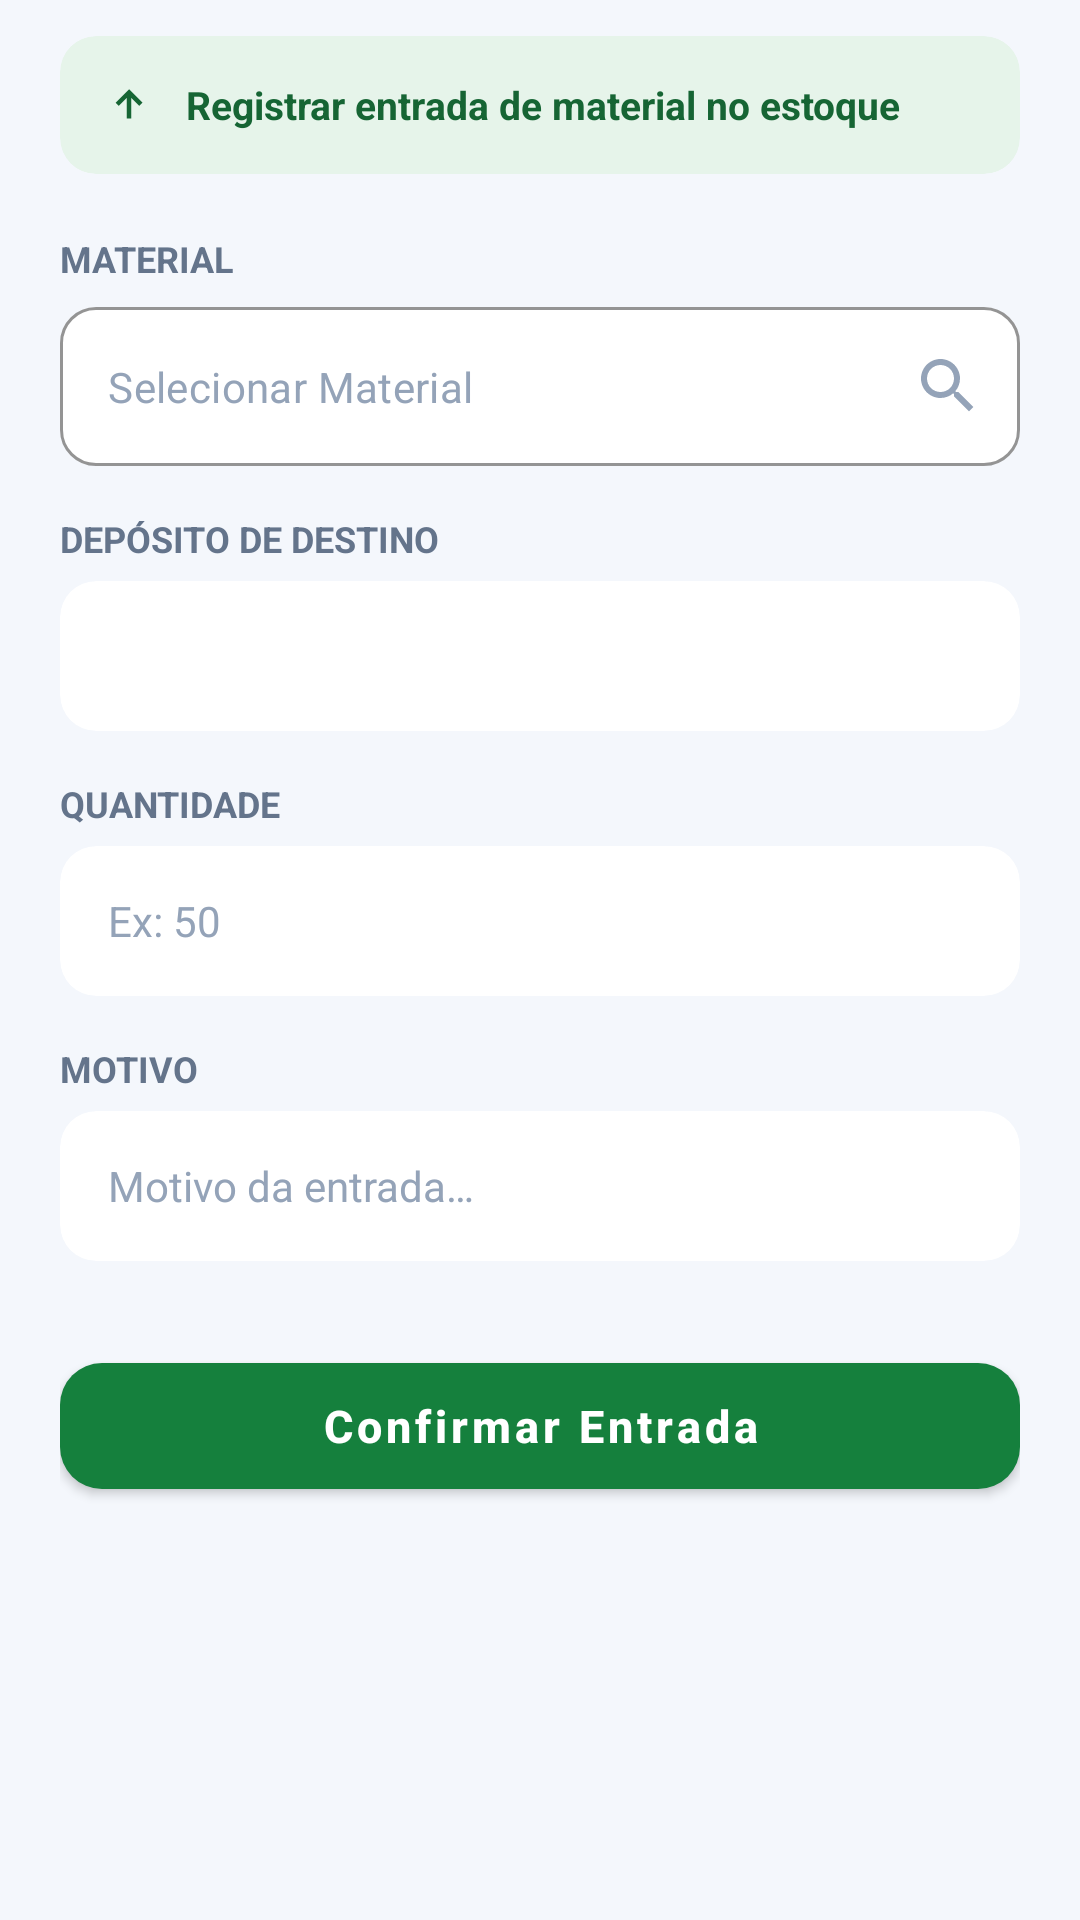

Where to tap for icons on this 1080x1920 app screen, as [x,y]:
arrow up: [129,104]
